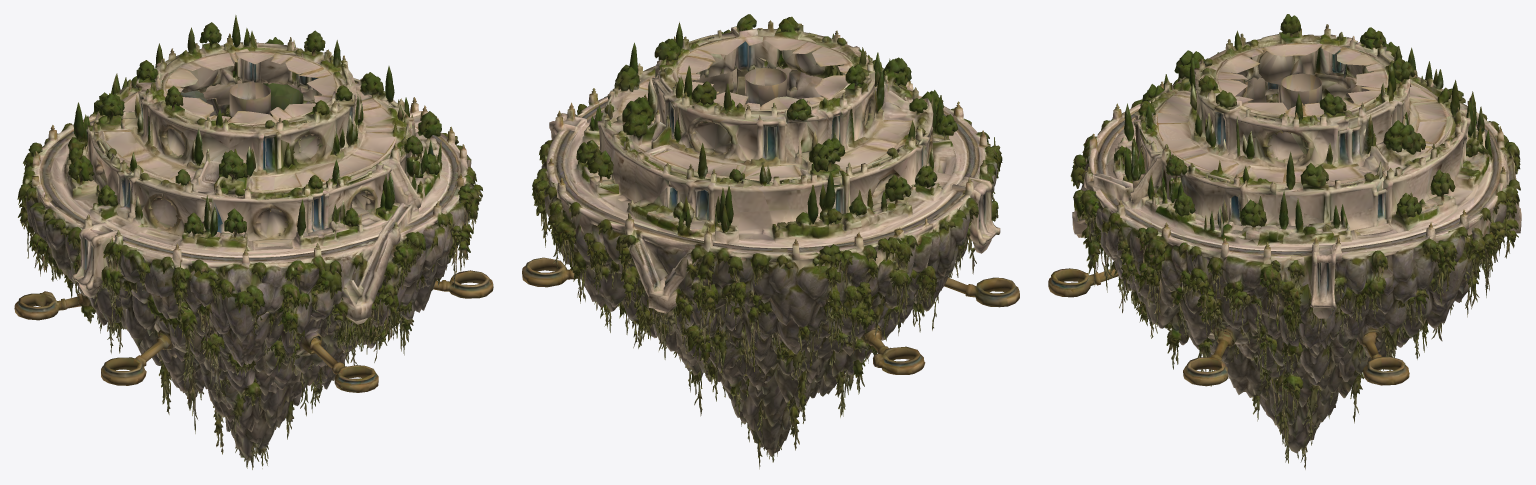
File: island-base.glb
3 views of the same model, side by side, from view 1: azimuth 30°, elevation 25°; view 2: azimuth 150°, elevation 25°; view 3: azimuth 270°, elevation 25° (orthographic). The views are drawn at different scales.
Visible parts, largest first — view 1: Island_Terrain; view 2: Island_Terrain; view 3: Island_Terrain.
Boxes of the visible parts, left/top/right/bottom form: Island_Terrain: left=14, top=15, right=493, bottom=469; Island_Terrain: left=522, top=14, right=1019, bottom=469; Island_Terrain: left=1048, top=14, right=1521, bottom=469.
Bounding box in the file's own units: 1.78 × 1.8 × 1.82.
Materials: 1 (1 with a texture image).
